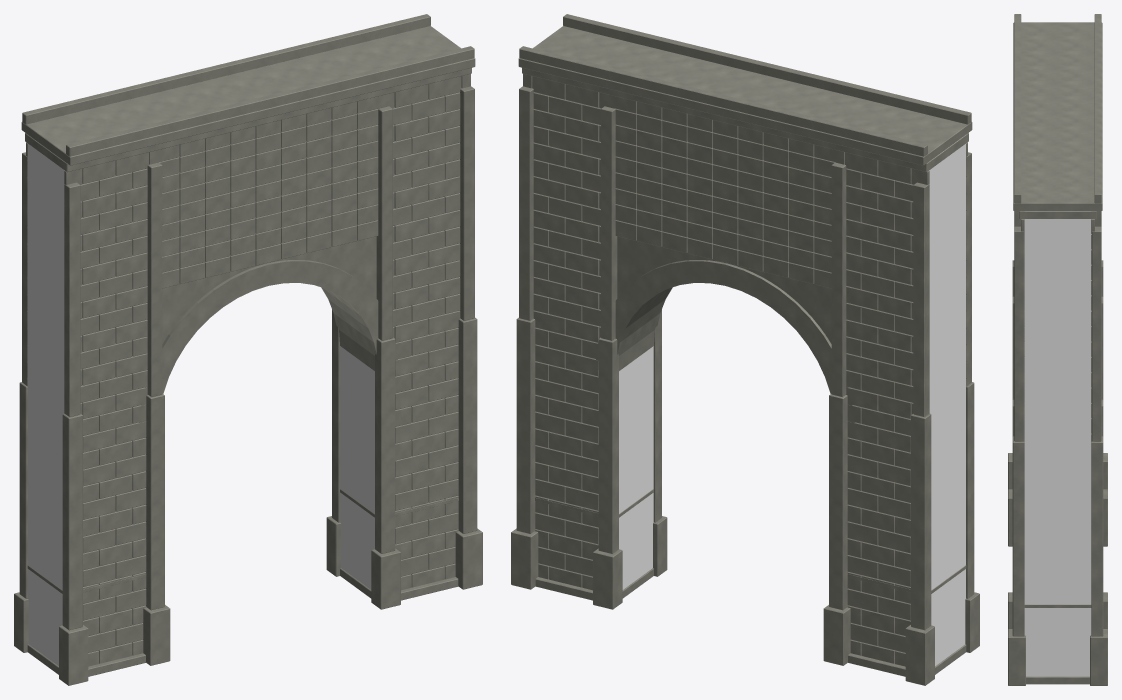
Rendered from GF2_Wall_Gateway_48x60.fbx.
The picture shows the model from 3 angles, left to right: view 1: azimuth 30°, elevation 25°; view 2: azimuth 150°, elevation 25°; view 3: azimuth 270°, elevation 25°; orthographic projection. The views are drawn at different scales.
Parts seen in each view (by area): view 1: GF2_Wall_Gateway_48x60.001; view 2: GF2_Wall_Gateway_48x60.001; view 3: GF2_Wall_Gateway_48x60.001.
Boxes of the visible parts, bbox=[...] form: GF2_Wall_Gateway_48x60.001: bbox=[14, 14, 482, 685]; GF2_Wall_Gateway_48x60.001: bbox=[511, 14, 979, 685]; GF2_Wall_Gateway_48x60.001: bbox=[1008, 14, 1107, 685].
Bounding box in the file's own units: 49.1 × 60.55 × 11.2.
2 materials, 1 textured.
